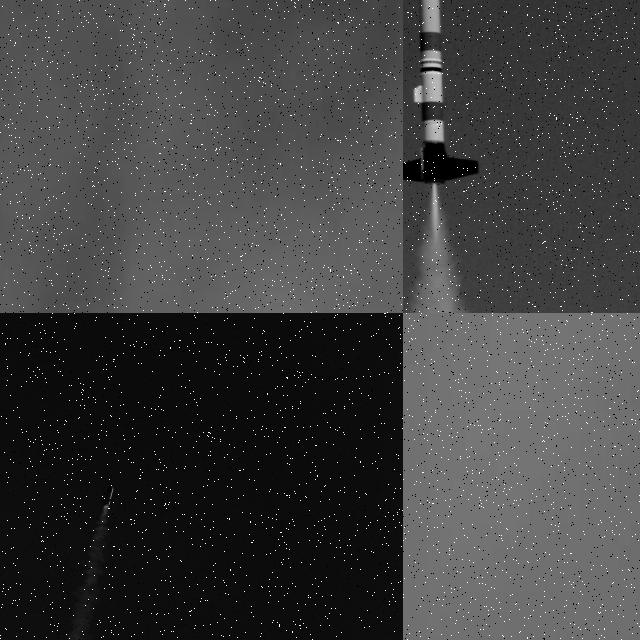Rocket: (403, 0, 483, 186), (97, 485, 116, 510)
